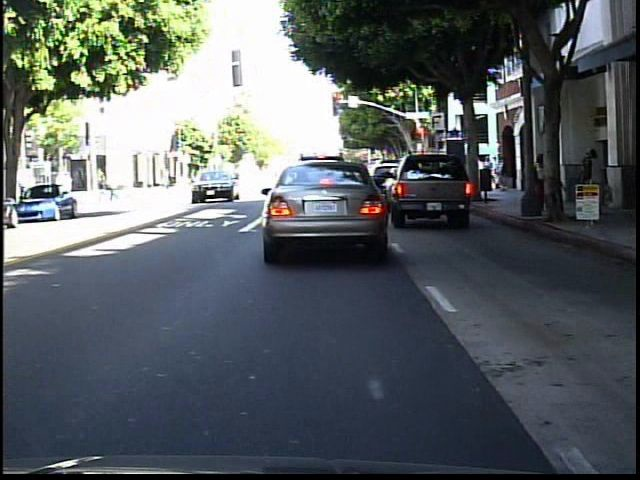person: (583, 147, 610, 215), (532, 150, 550, 213), (580, 149, 595, 203)
